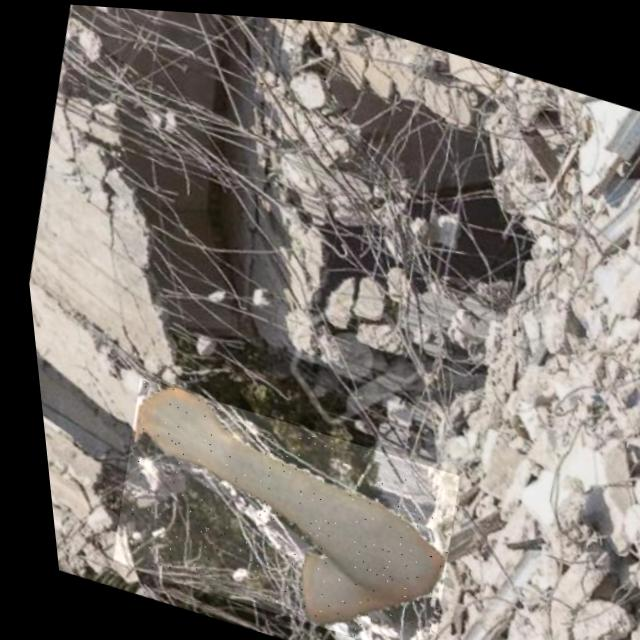Person in Rubble: (85, 372, 465, 640)
